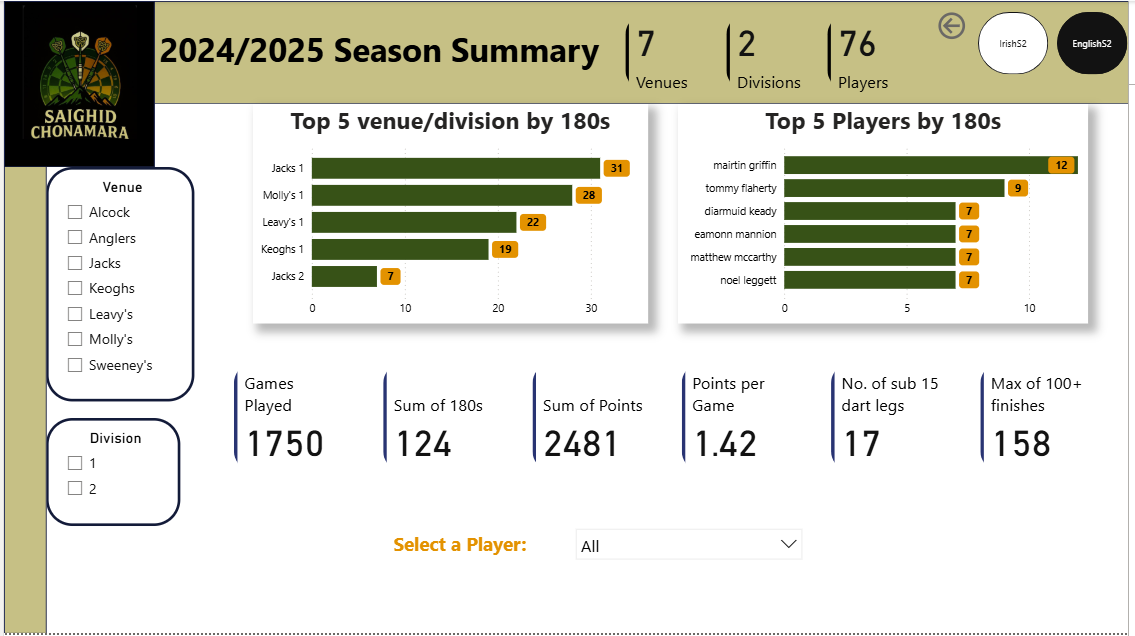

Layout of this report page (visuals, bound fields, positions):
{"tool":"powerbi","page":{"name":"EnglishS2","canvas":[1280,720],"ordinal":4},"visuals":[{"type":"shape","box":[0,0,1281,117.3],"z":0},{"type":"textbox","box":[171.6,23.7,577.9,71],"z":1000},{"type":"slicer","title":"Venue","fields":{"Values":["2026OverPerformance.Venue"]},"box":[48.3,189.3,168.6,267.2],"z":2000},{"type":"slicer","title":"Division","fields":{"Values":["2026OverPerformance.Division"]},"box":[48.3,474.3,152.9,123.3],"z":3000},{"type":"shape","box":[0,0,171.6,189.4],"z":3500,"group":"g1"},{"type":"clusteredBarChart","title":"Top 5 venue/division by 180s","fields":{"Category":["2026OverPerformance.Venue Div Lock Link"],"Y":["Sum(OverallPerformance2026.180s2)"]},"box":[284,117.3,449.7,250.5],"z":4000},{"type":"slicer","title":"Select a Player","fields":{"Values":["2026OverPerformance.Name"]},"box":[641,590.7,278.1,65.1],"z":5000},{"type":"clusteredBarChart","title":"Top 5 Players by 180s ","fields":{"Category":["2026OverPerformance.Name"],"Y":["Sum(OverallPerformance2026.180s2)"]},"box":[767.2,117.3,467.4,250.5],"z":6000},{"type":"shape","box":[0,0,48.6,720.6],"z":7000},{"type":"group","id":"g1","title":"Group 1","box":[0,0,171.7,189.5],"z":8000},{"type":"cardVisual","fields":{"Data":["Sum(2026OverPerformance.Played)","Sum(2026OverPerformance.180s2)","Sum(2026OverPerformance.Points)","OverallPerformance2026.Points per Game","Max(Fast_legs2026.fast legs )","Max(Finishes_100_2026.100 finishes)"]},"box":[244.6,392.5,1025.6,162.7],"z":9000},{"type":"cardVisual","fields":{"Data":["Count(2026OverPerformance.Venue)","Count(2026OverPerformance.Division)","Count(2026OverPerformance.Name)"]},"box":[703.1,7.9,347.1,101.6],"z":10000},{"type":"textbox","box":[438.8,597.6,180.5,50.3],"z":11000},{"type":"image","box":[11,0,150,162],"z":12000,"group":"g1"},{"type":"actionButton","box":[1059.1,7.9,99.6,40.4],"z":12000},{"type":"pageNavigator","box":[1109.4,12.8,170.6,71],"z":13000}]}

Visuals, with their boxes on the page's 1280x720 design canvas (x1, y1, x2, y2). These are canvas units, not pixel positions in the 1135x636 screenshot, which may show the page scaled, cropped or inside an application window:
shape: 0:0:1281:117
textbox: 172:24:750:95
"Venue" slicer: 48:189:217:456
"Division" slicer: 48:474:201:598
shape: 0:0:172:189
"Top 5 venue/division by 180s" clusteredBarChart: 284:117:734:368
"Select a Player" slicer: 641:591:919:656
"Top 5 Players by 180s " clusteredBarChart: 767:117:1235:368
shape: 0:0:49:721
"Group 1" group: 0:0:172:190
cardVisual - Sum(2026OverPerformance.Played) x Sum(2026OverPerformance.180s2): 245:392:1270:555
cardVisual - Count(2026OverPerformance.Venue) x Count(2026OverPerformance.Division): 703:8:1050:110
textbox: 439:598:619:648
image: 11:0:161:162
actionButton: 1059:8:1159:48
pageNavigator: 1109:13:1280:84
